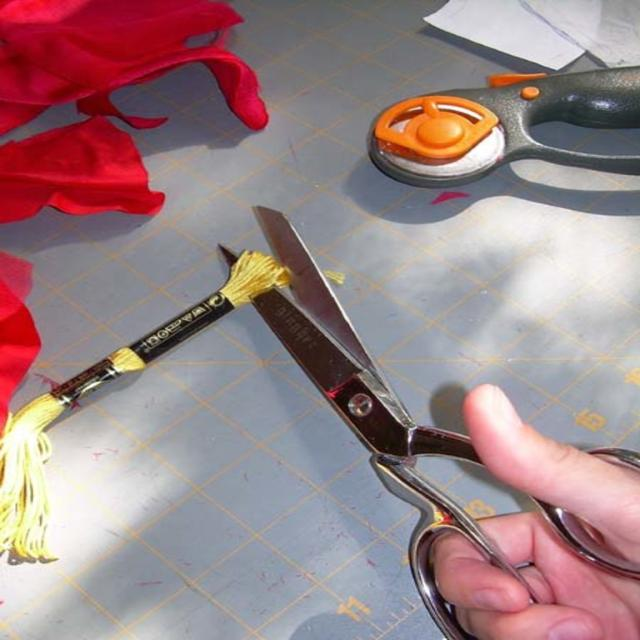scissors: (176, 199, 640, 640)
